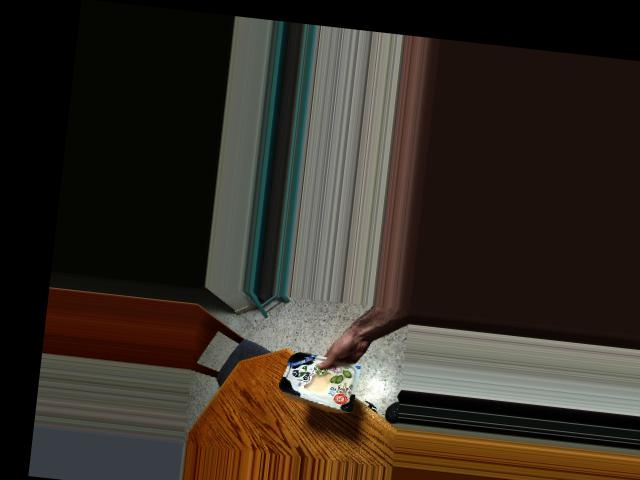cheese: (285, 344, 348, 411)
